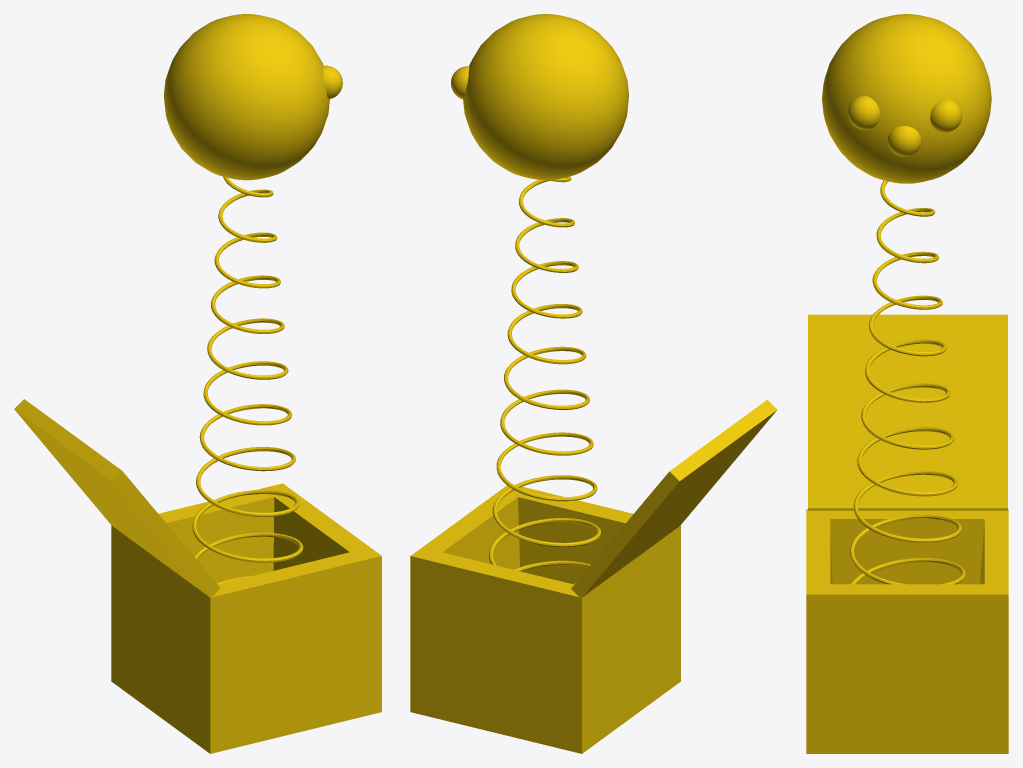
File: Clown2.fbx
3 views of the same model, side by side, from view 1: azimuth 30°, elevation 25°; view 2: azimuth 150°, elevation 25°; view 3: azimuth 270°, elevation 25° (orthographic). The views are drawn at different scales.
Parts seen in each view (by area): view 1: Box001; view 2: Box001; view 3: Box001.
Boxes of the visible parts, bbox=[...] form: Box001: bbox=[14, 14, 381, 753]; Box001: bbox=[410, 14, 777, 753]; Box001: bbox=[806, 14, 1008, 753].
Bounding box in the file's own units: 70.88 × 170 × 45.21.
